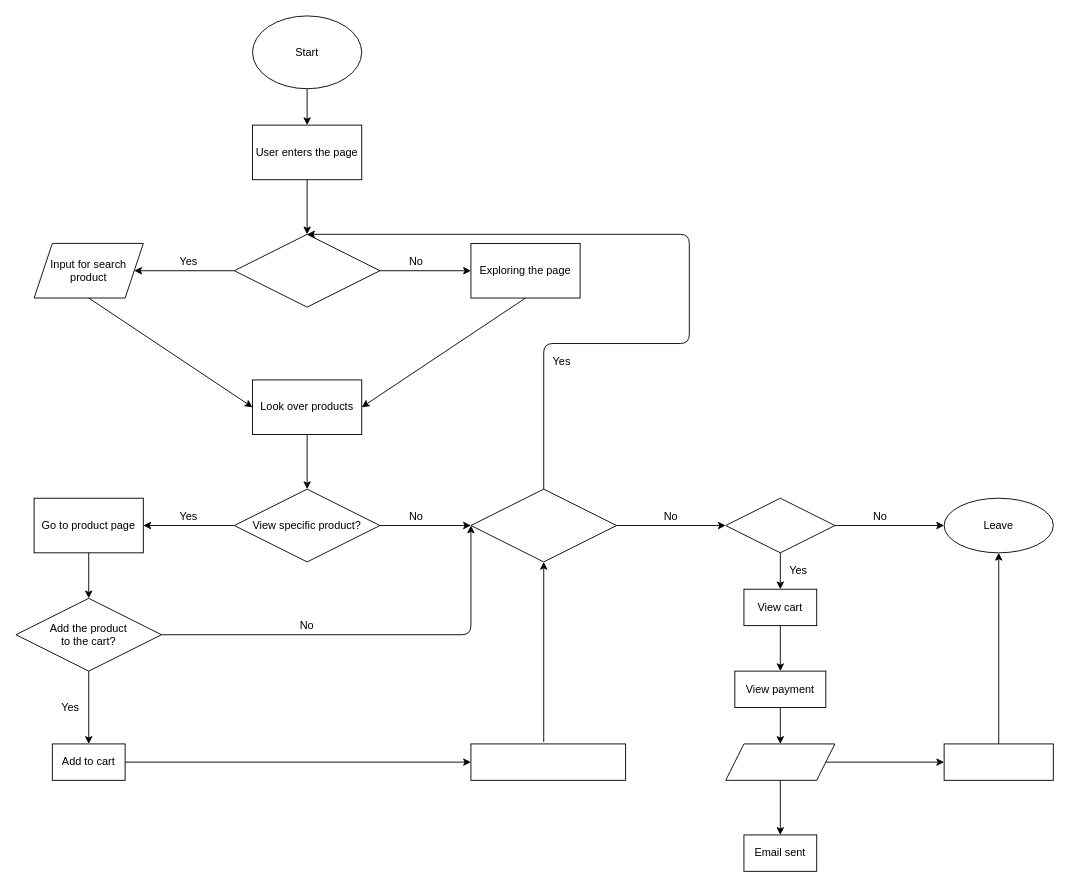
Some shapes in this 1069 by 887 pixel diagram are drawn without their labels. The centre of each missing label's shape, as x and y in pixels:
"Add to cart confirmation" goes at (548,761).
"Checkout?" goes at (780,525).
"Continue shopping?" goes at (543,525).
"Order confirmation" goes at (998,761).
"Payment information" goes at (780,761).
"Searching for a product?" goes at (306,270).
